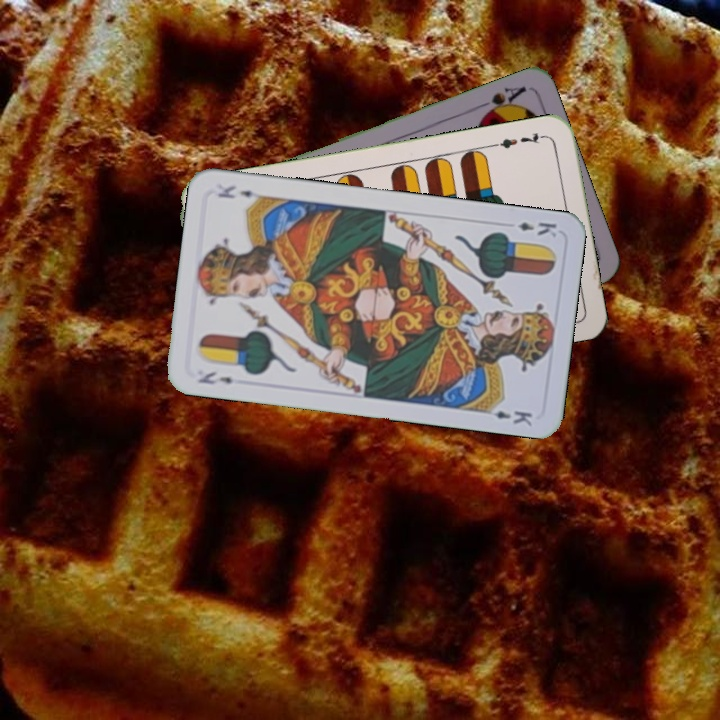E7: (490, 128, 549, 152)
EK: (514, 218, 559, 240), (194, 367, 235, 387)
SA: (472, 82, 529, 121)
